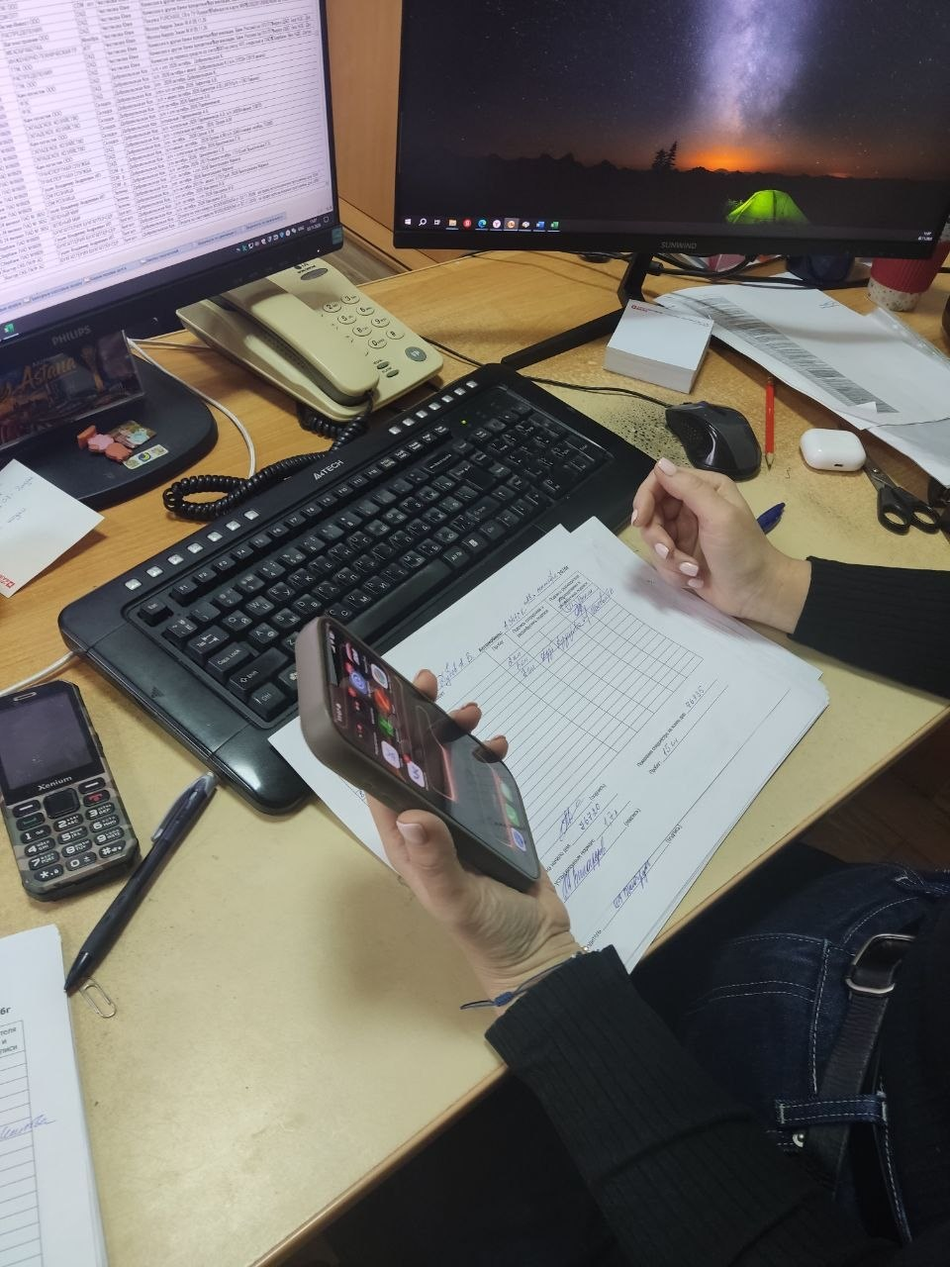cell phone: (294, 614, 541, 893), (0, 679, 140, 902)
